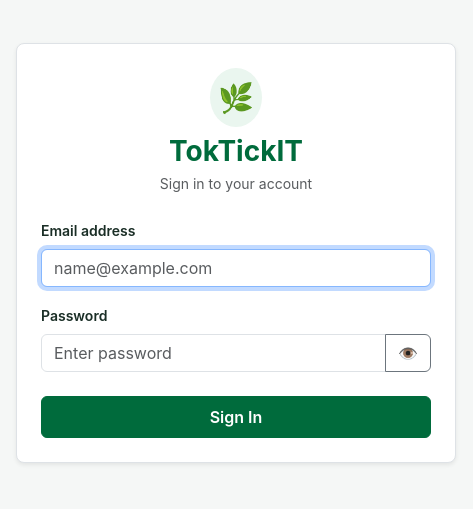
Phase F2 / P06 UI-01, UI-02, UI-03 Login & Navigation Tests › UI-02: Login busy state and error alert banners › displays rate-limit error banner on 429 status
Step 1. Type "rate@example.com" into the field with test id "login-email-input" → (236, 268), box [41,249,431,287]
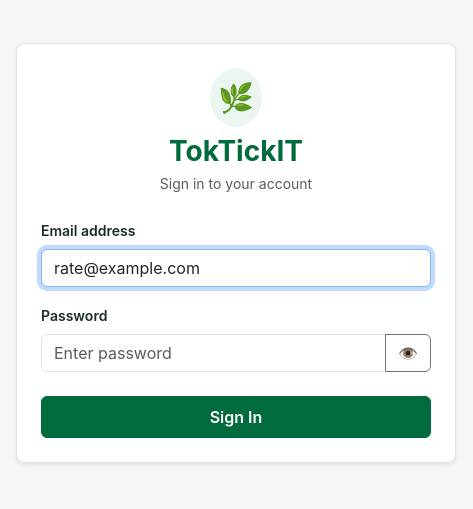
Step 2. Type "Pass12345678!" into the password field with test id "login-password-input" → (214, 353), box [41,334,386,372]
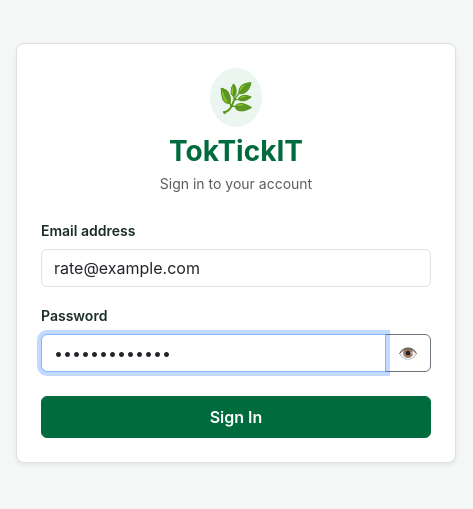
Step 3. Click the button with test id "login-submit-button" → (236, 417), box [41,396,431,438]
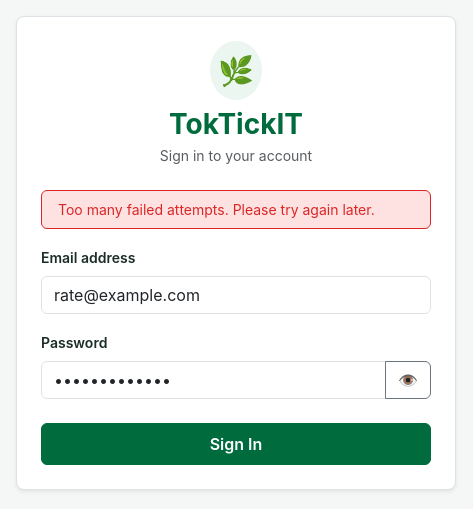
Now the text "Too many failed attempts. Please try again later." is shown, box [41,190,431,229]
